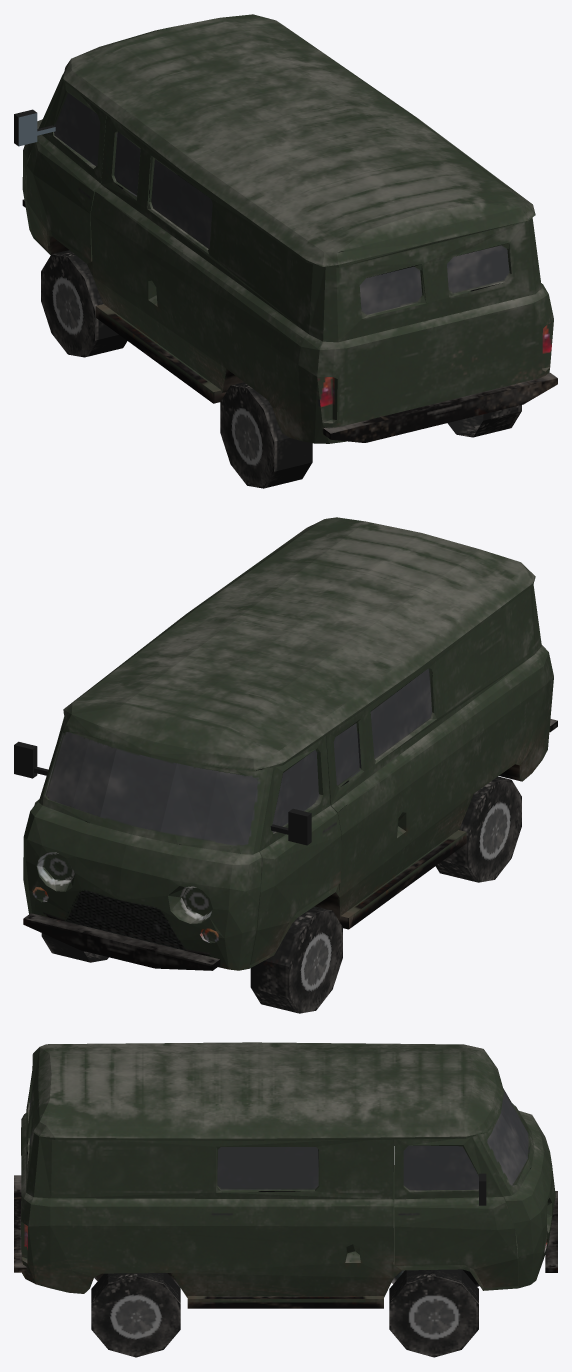
Rendered from SM_UAZ452.fbx.
The picture shows the model from 3 angles, top to bottom: view 1: azimuth 30°, elevation 25°; view 2: azimuth 150°, elevation 25°; view 3: azimuth 270°, elevation 25°; orthographic projection. The views are drawn at different scales.
Visible parts, largest first — view 1: SM_UAZ452; view 2: SM_UAZ452; view 3: SM_UAZ452.
Part boxes in pixels (<box>): SM_UAZ452: <box>14,14,557,488</box>; SM_UAZ452: <box>14,517,557,1013</box>; SM_UAZ452: <box>14,1042,557,1357</box>.
Bounding box in the file's own units: 226 × 206 × 436.
1 material, 1 textured.
